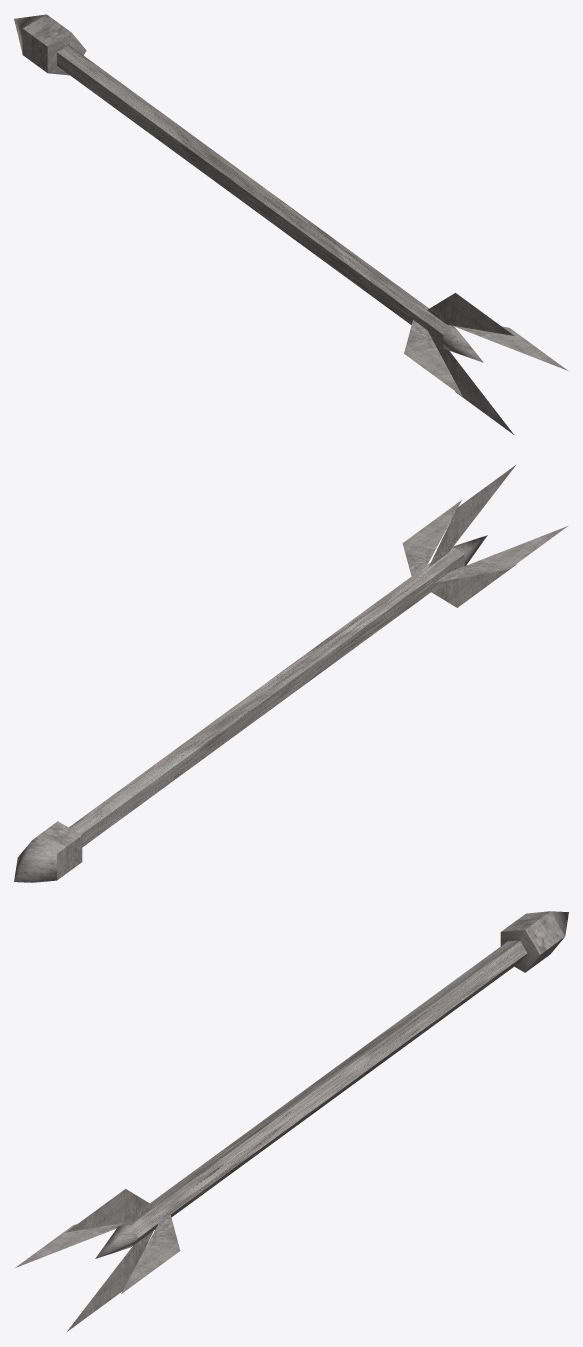
Rendered from arrow.glb.
The picture shows the model from 3 angles, top to bottom: view 1: azimuth 30°, elevation 25°; view 2: azimuth 150°, elevation 25°; view 3: azimuth 330°, elevation 25°; orthographic projection.
Visible parts, largest first — view 1: pCylinder1, pCylinder2, pasted__pasted__polySurface1, pasted__polySurface1, pasted__polySurface2, polySurface1; view 2: pCylinder1, pCylinder2, pasted__pasted__polySurface1, pasted__polySurface1, polySurface1, pasted__polySurface2; view 3: pCylinder1, pCylinder2, polySurface1, pasted__pasted__polySurface1, pasted__polySurface2, pasted__polySurface1.
Boxes of the visible parts, left/top/right/bottom form: pCylinder1: left=57, top=45, right=483, bottom=362; pCylinder2: left=14, top=14, right=86, bottom=75; pasted__pasted__polySurface1: left=427, top=293, right=513, bottom=335; pasted__polySurface1: left=404, top=320, right=462, bottom=396; pasted__polySurface2: left=434, top=342, right=513, bottom=434; polySurface1: left=453, top=325, right=567, bottom=370; pCylinder1: left=69, top=535, right=487, bottom=847; pCylinder2: left=14, top=821, right=82, bottom=882; pasted__pasted__polySurface1: left=429, top=464, right=516, bottom=566; pasted__polySurface1: left=435, top=526, right=567, bottom=582; polySurface1: left=402, top=500, right=461, bottom=576; pasted__polySurface2: left=431, top=564, right=516, bottom=607; pCylinder1: left=95, top=940, right=527, bottom=1258; pCylinder2: left=500, top=911, right=568, bottom=972; polySurface1: left=121, top=1215, right=180, bottom=1293; pasted__pasted__polySurface1: left=66, top=1189, right=154, bottom=1232; pasted__polySurface2: left=67, top=1230, right=153, bottom=1331; pasted__polySurface1: left=14, top=1223, right=122, bottom=1268.
Size of the model in its own units: 1.92 by 1.72 by 15.7.
1 material, 1 textured.
